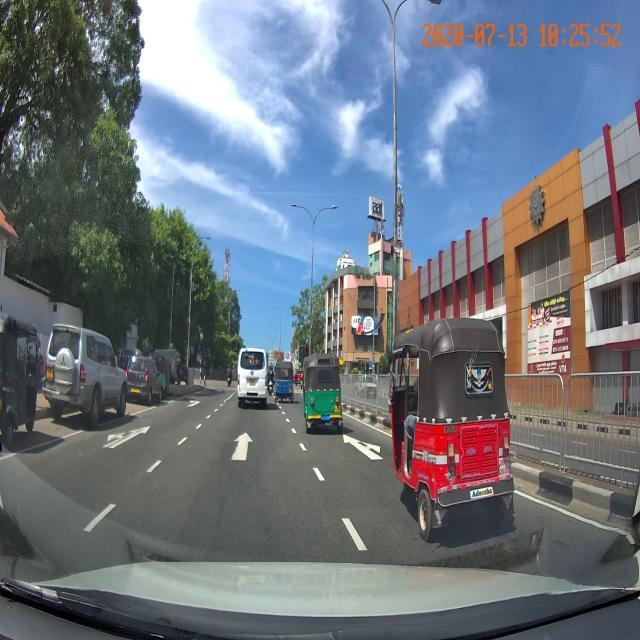Strelka vpered: (230, 431, 254, 462)
Strelka vpered - vlevo: (100, 425, 152, 450)
Strelka vpered - vpravo: (343, 433, 385, 462)
